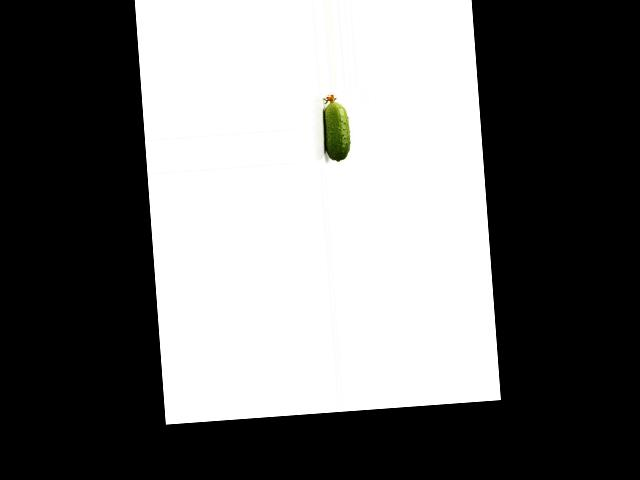cucumber: (320, 94, 351, 163)
